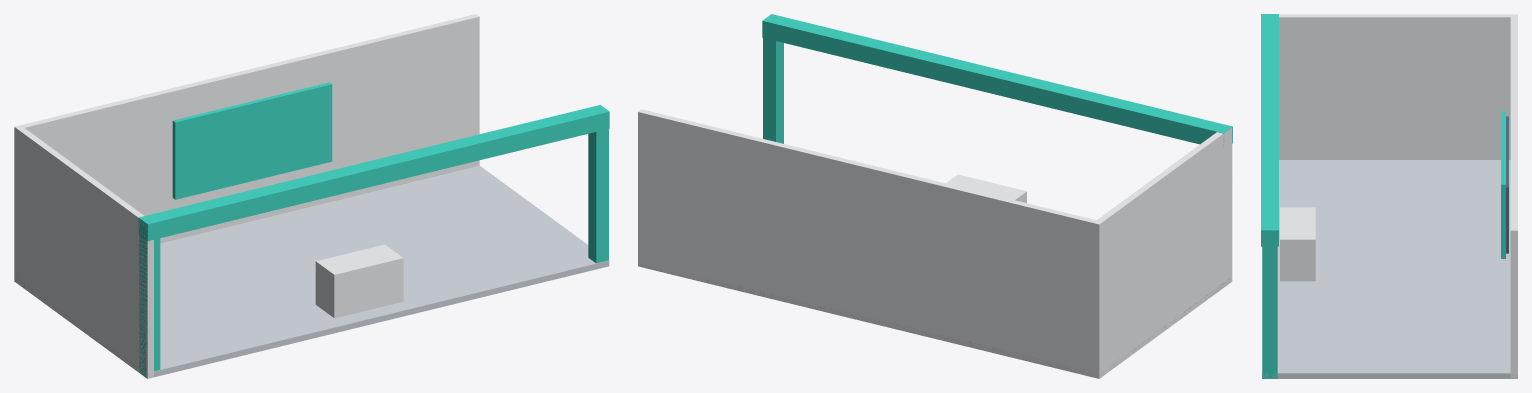
3 views of the same model, side by side, from view 1: azimuth 30°, elevation 25°; view 2: azimuth 150°, elevation 25°; view 3: azimuth 270°, elevation 25° (orthographic). The views are drawn at different scales.
Parts seen in each view (by area): view 1: Exhibition Booth Concept; view 2: Exhibition Booth Concept; view 3: Exhibition Booth Concept.
Part boxes in pixels (bbox=[...]): Exhibition Booth Concept: bbox=[14, 14, 609, 378]; Exhibition Booth Concept: bbox=[638, 14, 1232, 378]; Exhibition Booth Concept: bbox=[1261, 14, 1517, 378].
Bounding box in the file's own units: 10 × 3.2 × 5.02.
